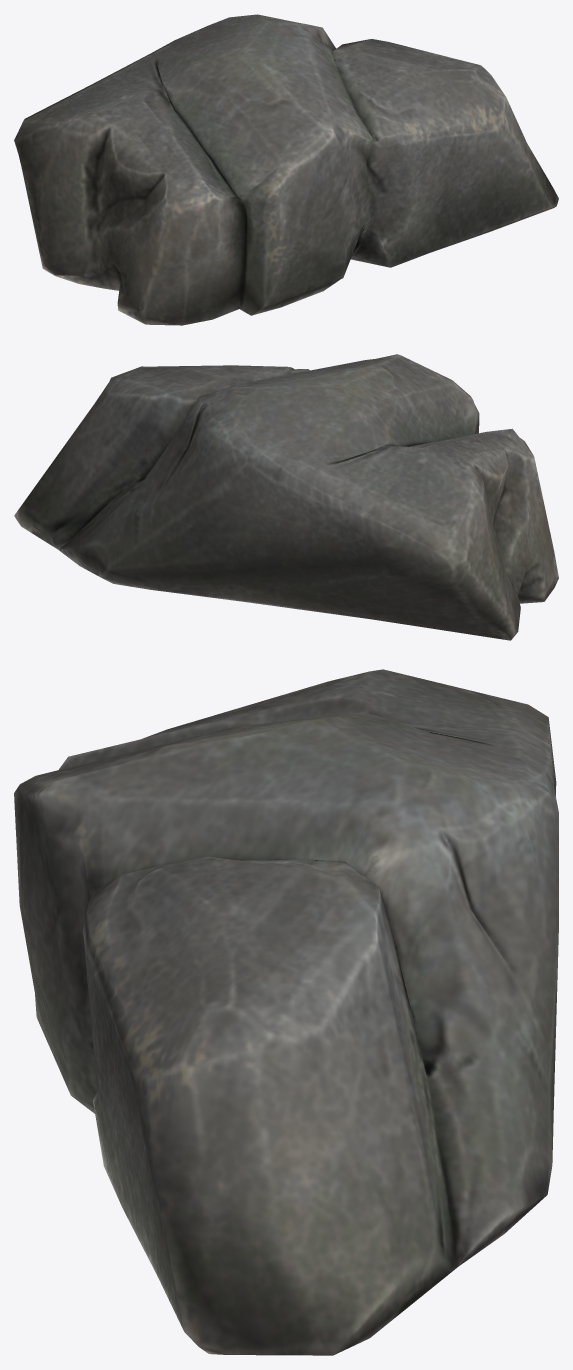
Rendered from Rock1.fbx.
3 renders of one model, top to bottom at view 1: azimuth 30°, elevation 25°; view 2: azimuth 150°, elevation 25°; view 3: azimuth 270°, elevation 25°, orthographic. The views are drawn at different scales.
Parts seen in each view (by area): view 1: Rock_Low_Poly; view 2: Rock_Low_Poly; view 3: Rock_Low_Poly.
Boxes of the visible parts, x1,y1,x2,y2 form: Rock_Low_Poly: (14, 14, 558, 325); Rock_Low_Poly: (14, 354, 558, 640); Rock_Low_Poly: (14, 669, 558, 1355).
Size of the model in its own units: 185 by 74.67 by 97.
1 material, 1 textured.
